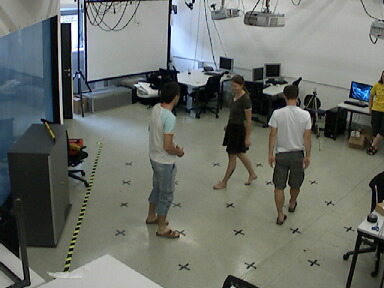person: (146, 78, 185, 244), (272, 86, 311, 223), (221, 72, 260, 196), (367, 63, 384, 157)
